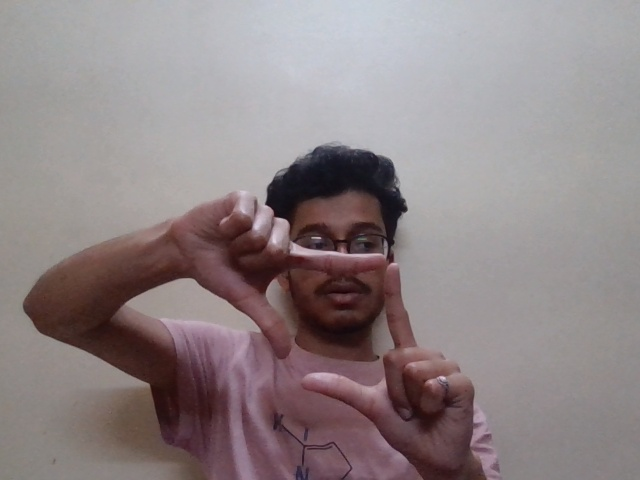video: (158, 187, 494, 465)
